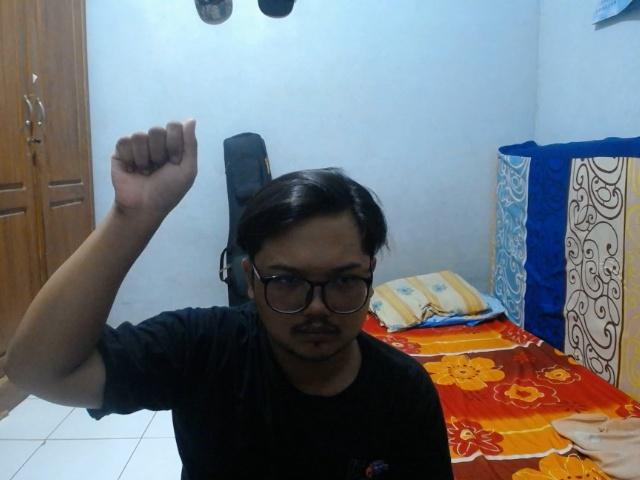Grab: (104, 113, 204, 221)
